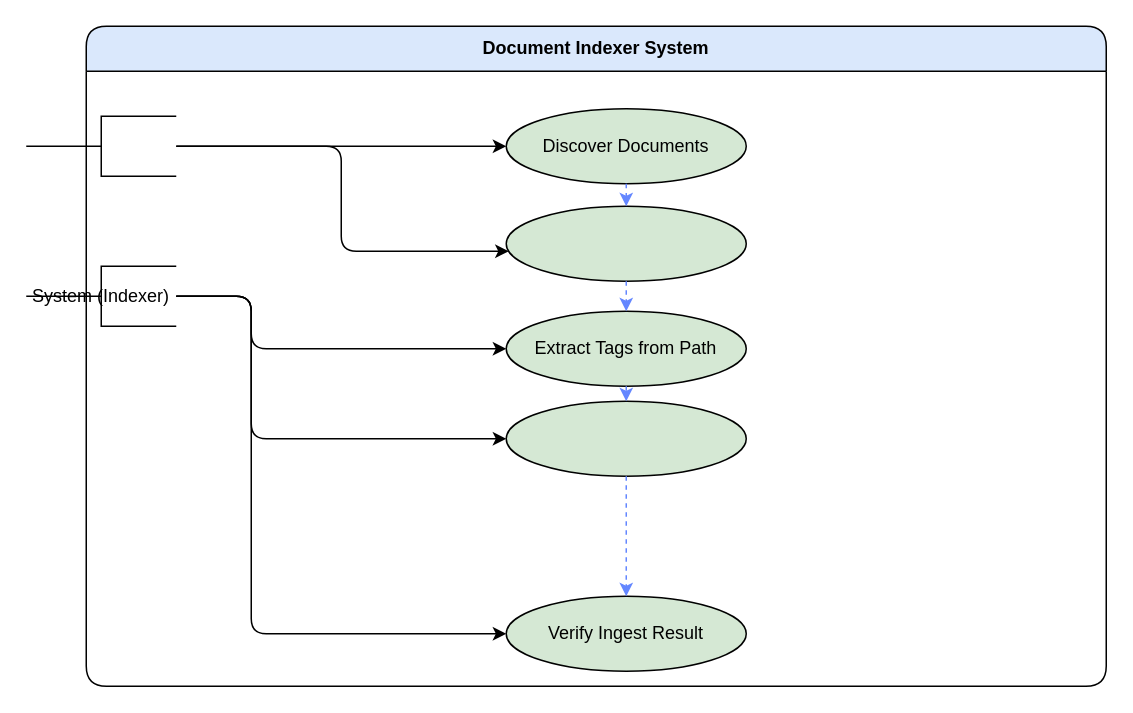
The diagram is 1133 pixels wide and 713 high, and some of its shapes have lost their labels. Here are the shapes that lost their labels. From the top down, the centre of each, then its label:
(x=100, y=145): Developer
(x=625, y=243): Classify Document Type
(x=625, y=438): Ingest to KB Memory
